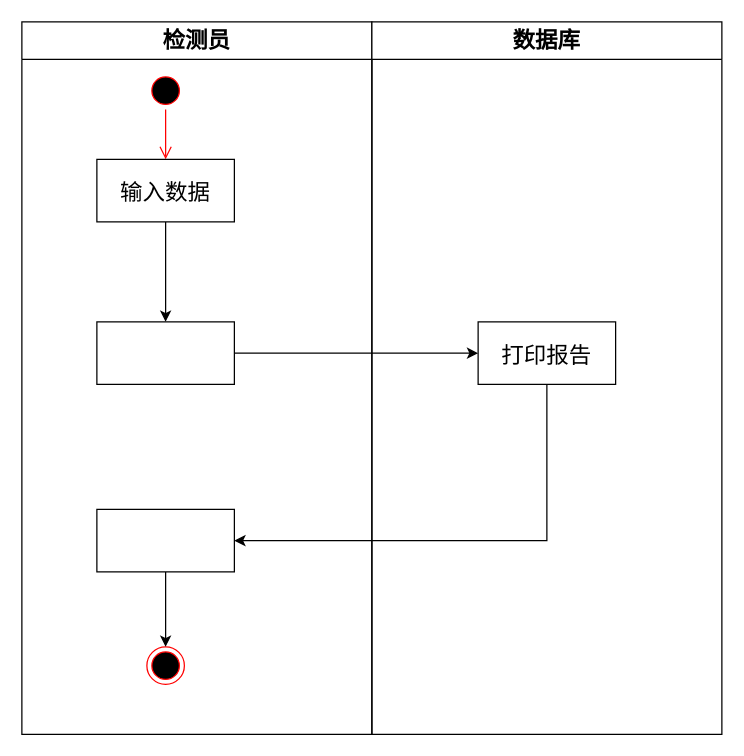
The diagram is 744 pixels wide and 756 high, and some of its shapes have lost their labels. Each missing label, with the centre of its shape:
"统计查询" goes at point (165, 540).
"选择设备" goes at point (165, 352).
